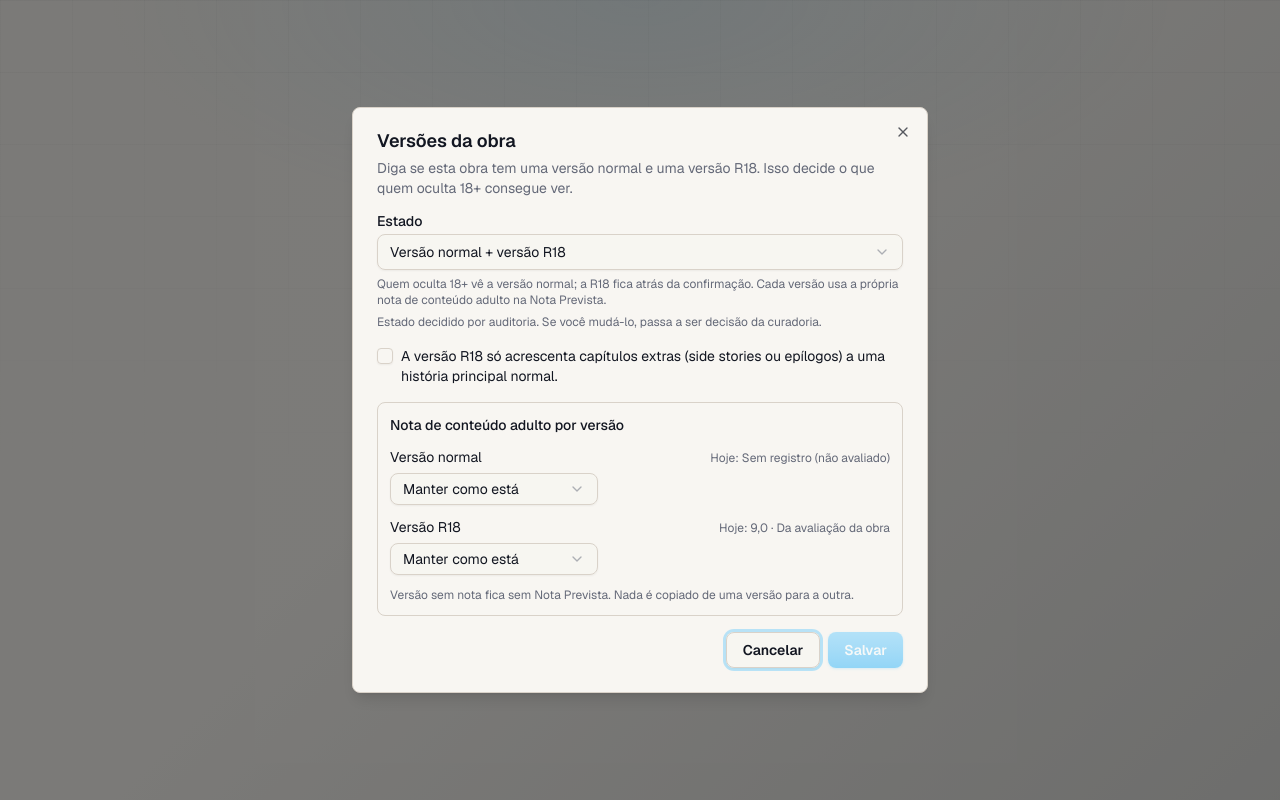
diálogo Versões da obra › fora de mixed, as notas por edição somem e o diálogo diz que elas ficam guardadas
Check: the text "Estado" is shown, box top-left (377, 212), bottom-right (422, 230)
Press Space in the dropdown named "Estado", box top-left (377, 234), bottom-right (903, 270)
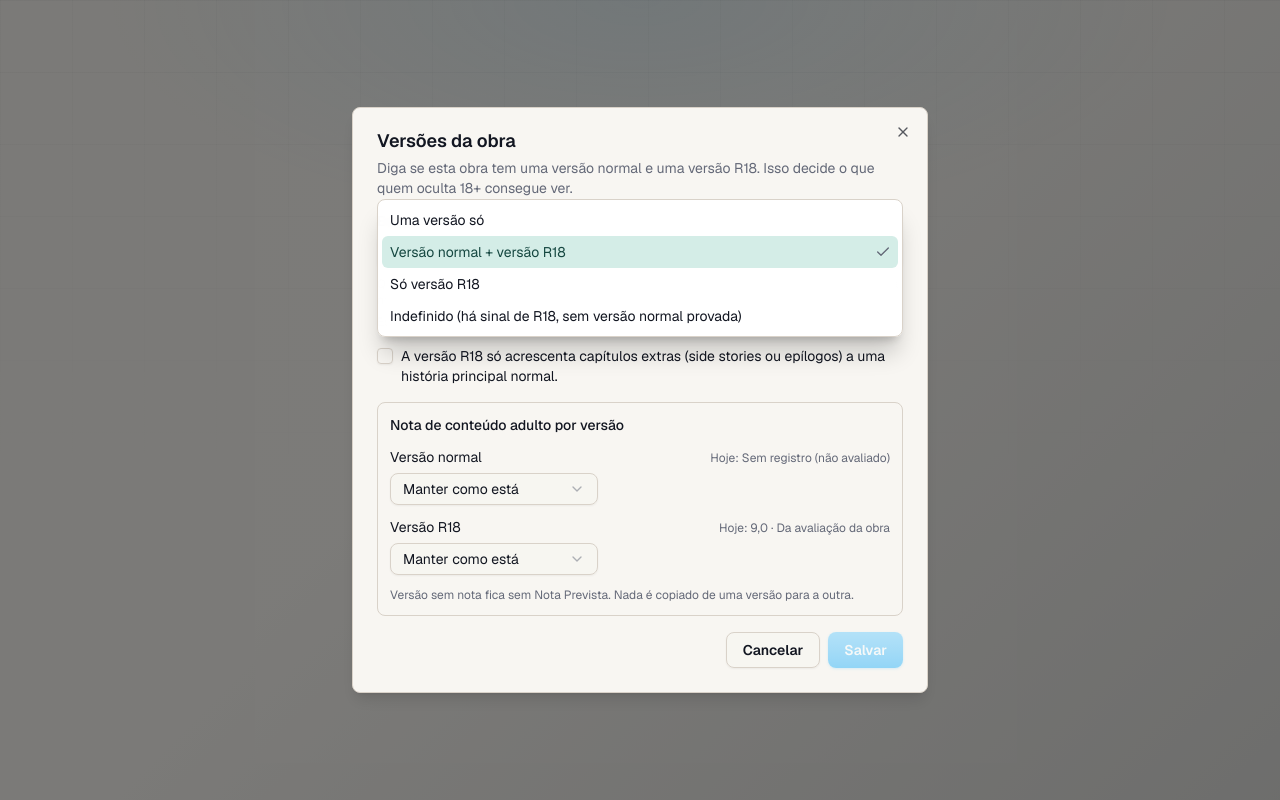
Click the option "Só versão R18" at {"x": 435, "y": 284}, box top-left (390, 275), bottom-right (480, 293)
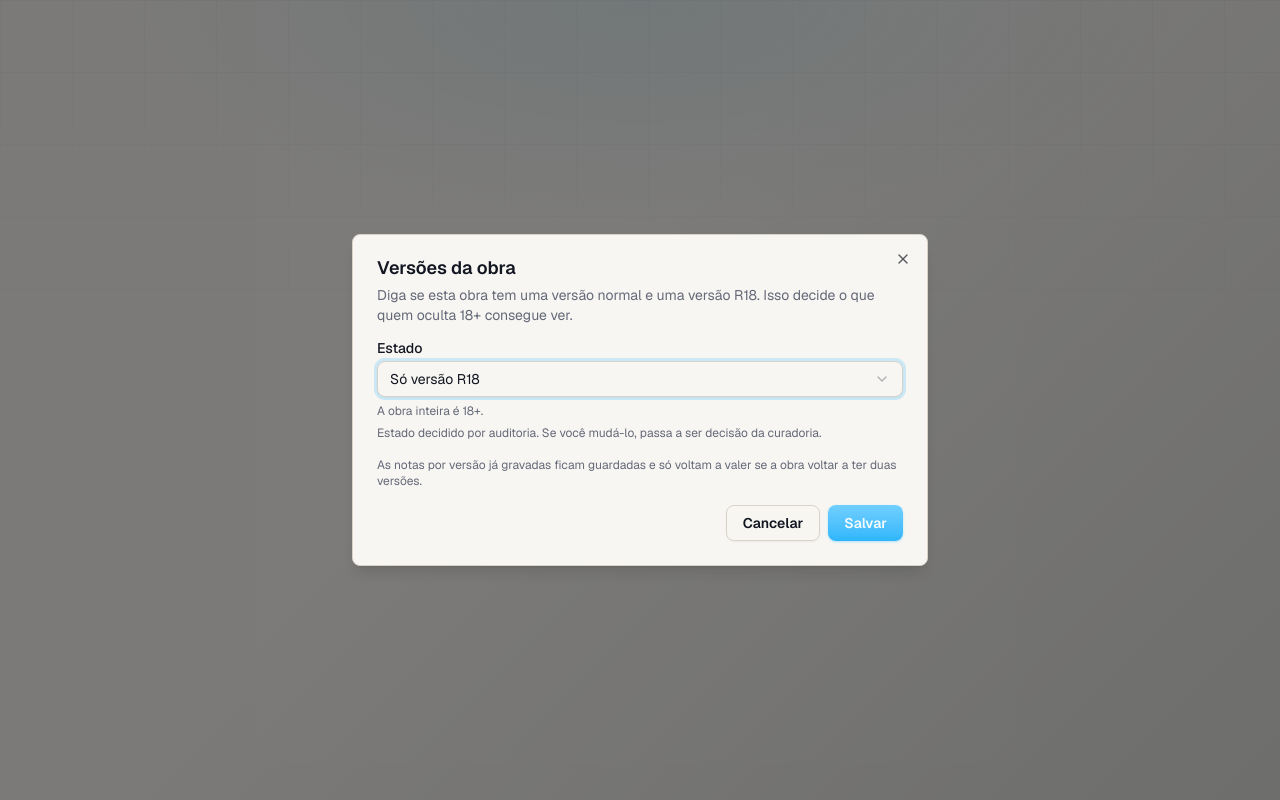
Check: the text "Nota de conteúdo adulto por versão" is gone
Check: the text "ficam guardadas e só voltam a valer" is shown, box top-left (377, 457), bottom-right (896, 489)
Check: the text "A obra inteira é 18+." is shown, box top-left (377, 403), bottom-right (483, 419)
